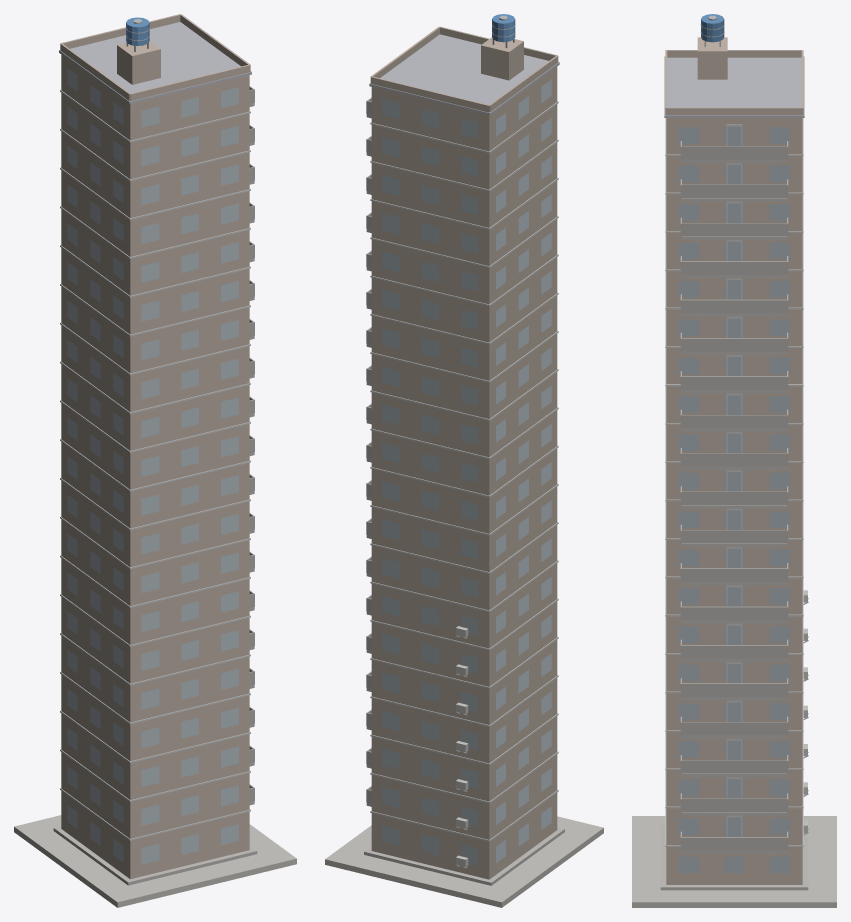
The model's file is 09_residential_high-03.glb.
The picture shows the model from 3 angles, left to right: view 1: azimuth 30°, elevation 25°; view 2: azimuth 150°, elevation 25°; view 3: azimuth 270°, elevation 25°; orthographic projection.
Size of the model in its own units: 15 by 67.32 by 15.
